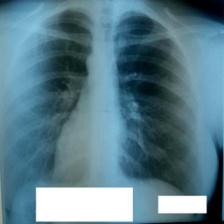tuberculosis: (4, 5, 204, 219)
